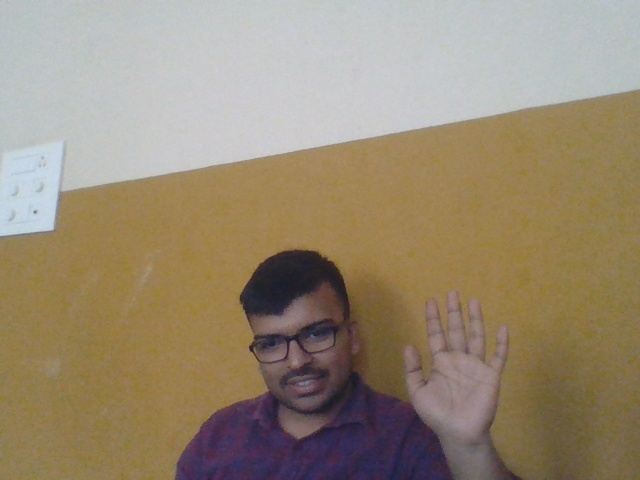Hello: (390, 281, 528, 443)
